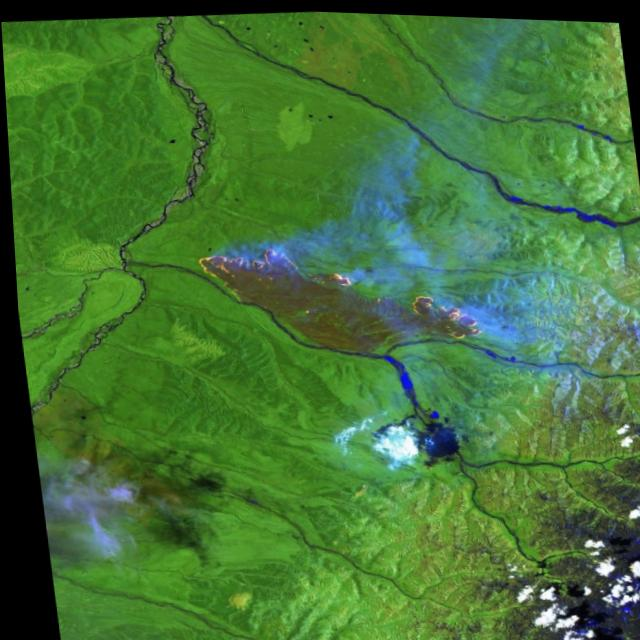fire: (187, 234, 354, 305), (404, 286, 484, 341)
